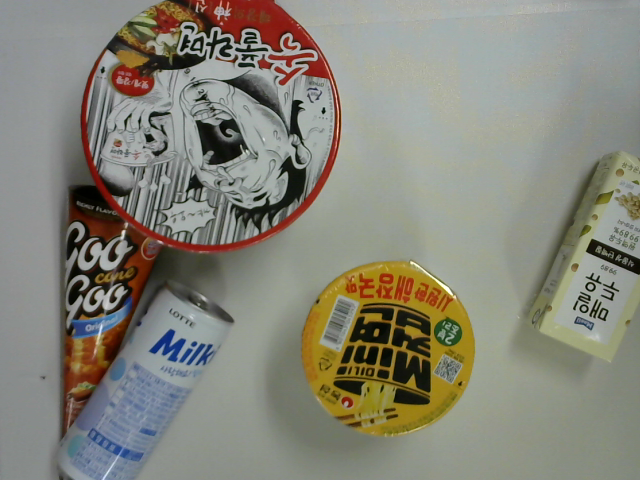99.89_Soymilk: (521, 149, 640, 368)
GooGoo_Cone_CVS: (65, 180, 163, 454)
Hejangmini: (298, 258, 477, 436)
Hejangpul: (80, 1, 349, 258)
Milkies_250ml: (54, 276, 233, 480)
